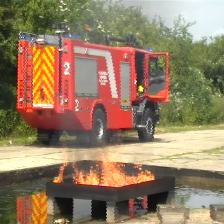fire_h: (72, 154, 155, 188), (52, 145, 68, 183)
